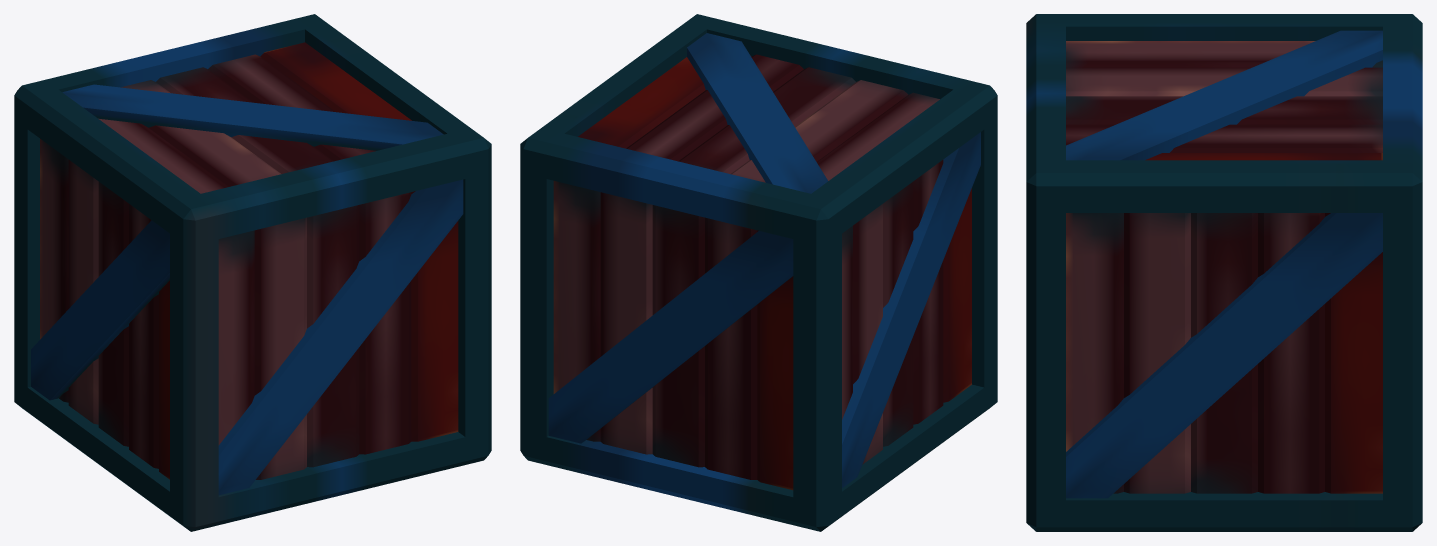
The model's file is crate.glb.
The picture shows the model from 3 angles, left to right: view 1: azimuth 30°, elevation 25°; view 2: azimuth 150°, elevation 25°; view 3: azimuth 270°, elevation 25°; orthographic projection. The views are drawn at different scales.
Parts seen in each view (by area): view 1: panels, edge, diag; view 2: panels, edge, diag; view 3: panels, edge, diag.
Part boxes in pixels (x1,y1,x2,y2): panels: [40, 42, 458, 479]; edge: [14, 14, 491, 531]; diag: [31, 84, 463, 495]; panels: [553, 54, 971, 490]; edge: [520, 14, 997, 531]; diag: [548, 33, 980, 487]; panels: [1066, 41, 1382, 493]; edge: [1026, 14, 1422, 531]; diag: [1066, 30, 1382, 498].
Size of what is drawn, in the model's own units: 1 by 1 by 1.
1 material, 1 textured.
